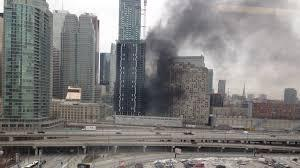smoke: (187, 3, 300, 73), (140, 1, 185, 113)
